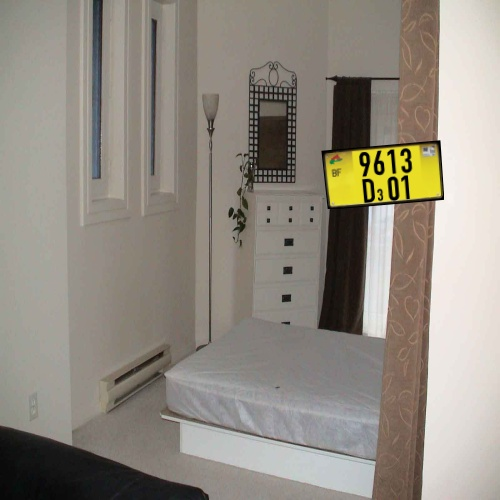plate: (315, 135, 449, 216)
